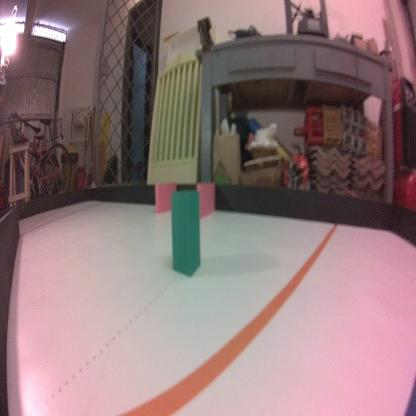green: (169, 188, 202, 280)
magenta: (196, 183, 215, 218), (154, 180, 173, 212)
